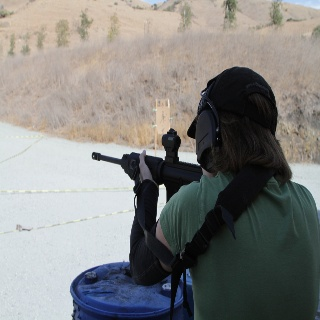rifle: (91, 127, 203, 223)
